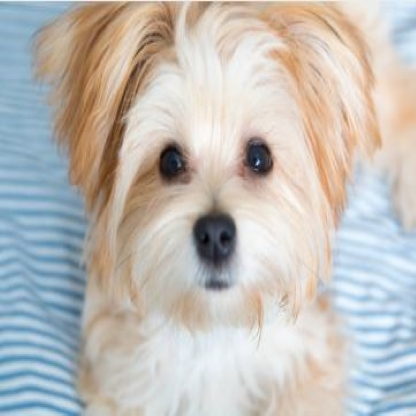maltese: (33, 2, 392, 414)
